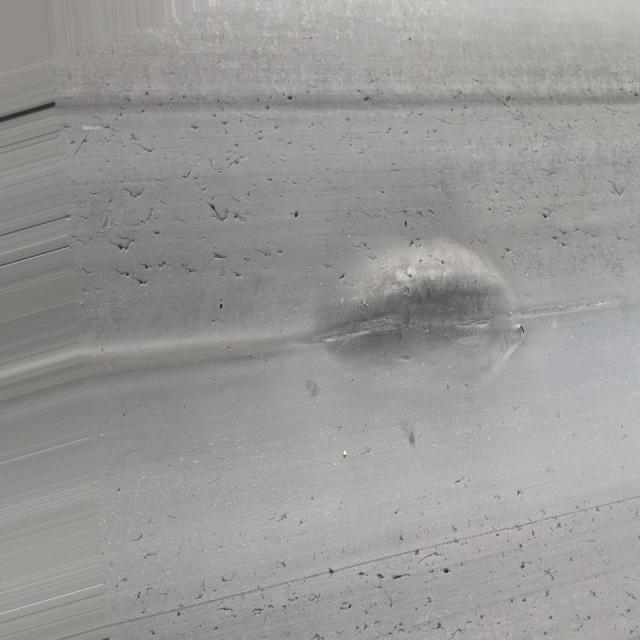impact damage: (314, 235, 527, 397)
